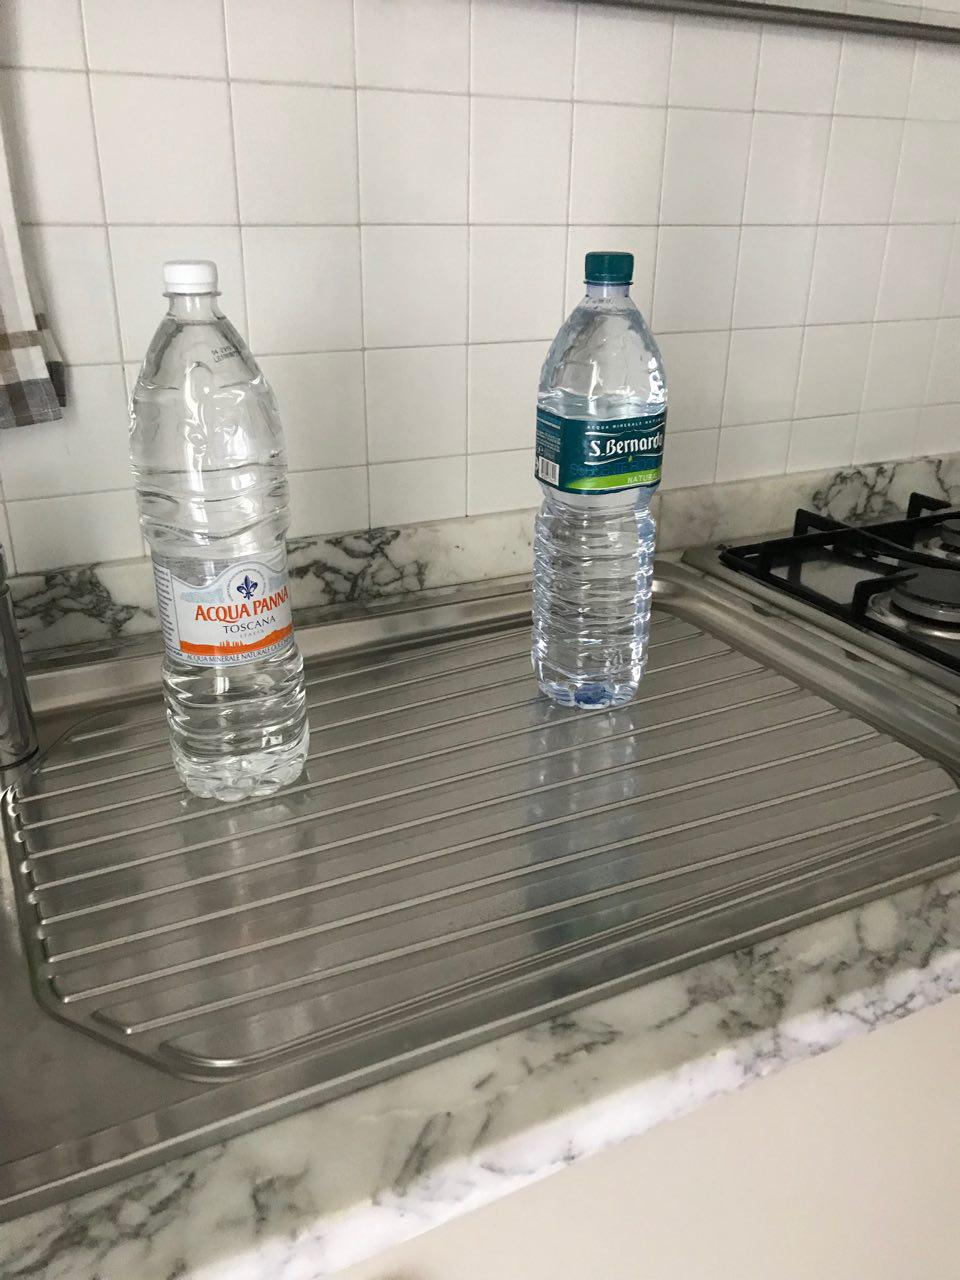san_bernardo: (528, 251, 669, 712)
